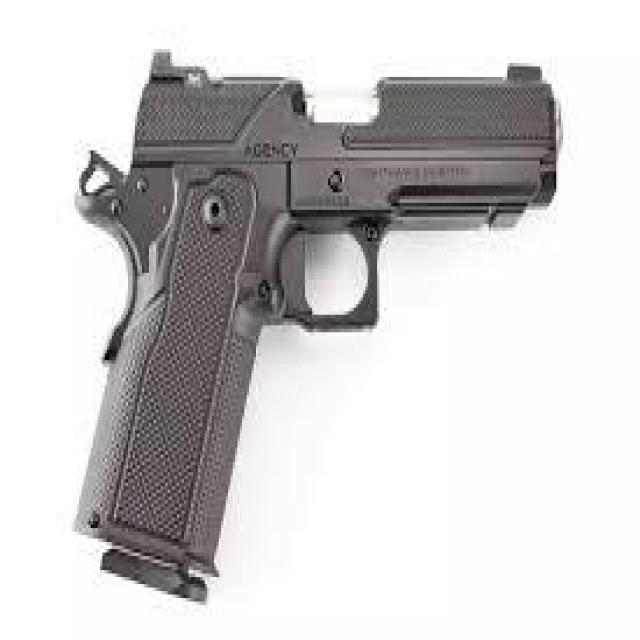gun: (72, 49, 556, 609)
